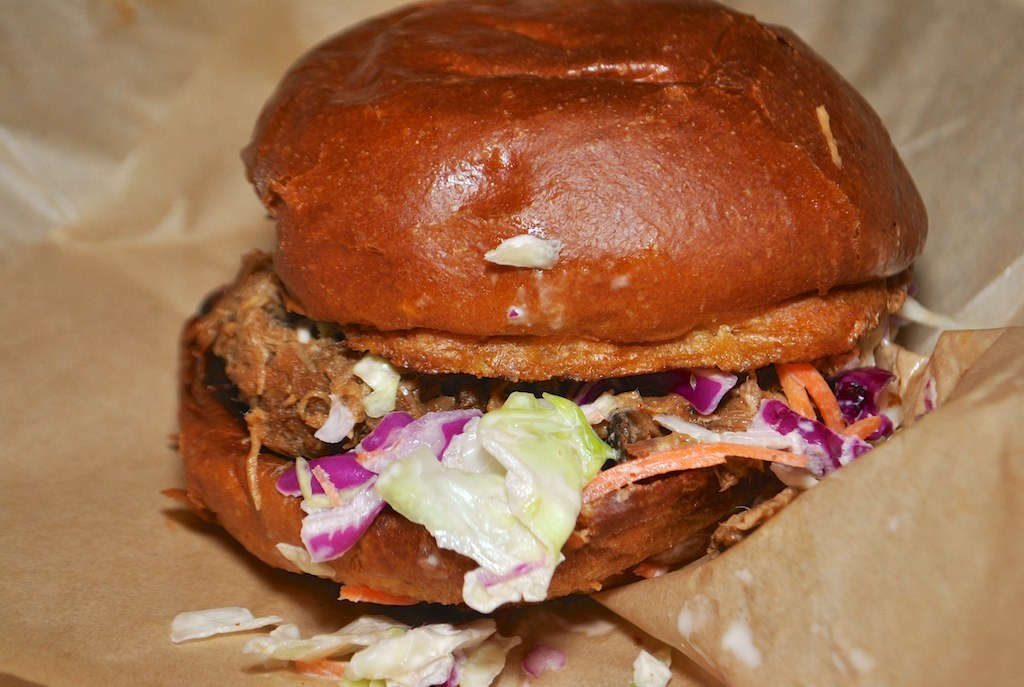Hamburger: (167, 0, 929, 620)
